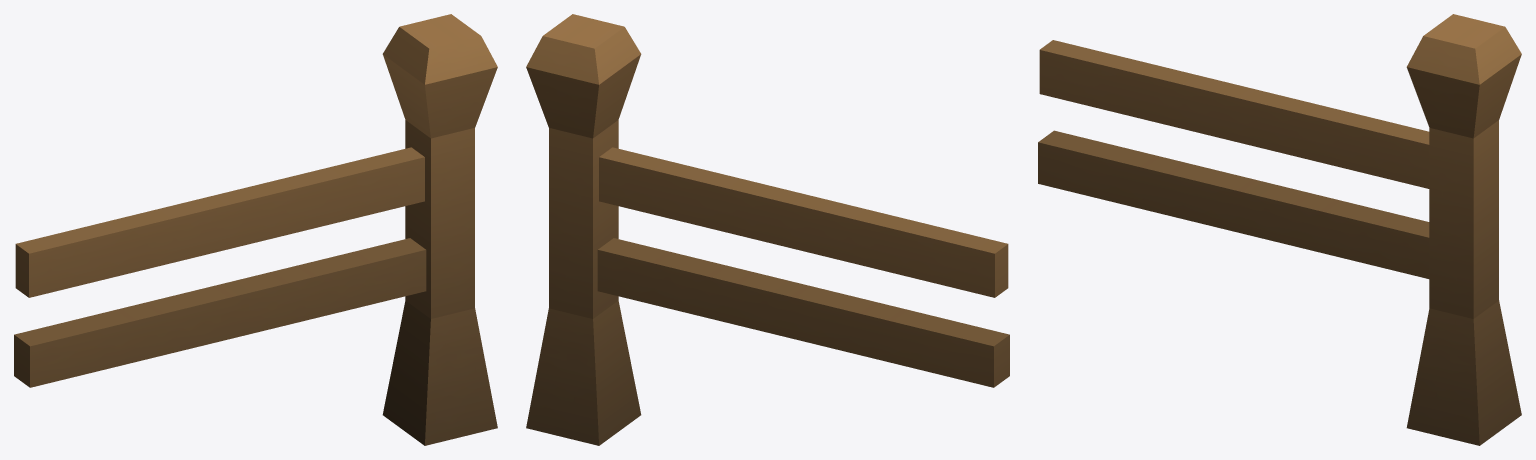
Rendered from Fence004.fbx.
3 views of the same model, side by side, from view 1: azimuth 30°, elevation 25°; view 2: azimuth 150°, elevation 25°; view 3: azimuth 330°, elevation 25° (orthographic).
Parts seen in each view (by area): view 1: Cube.029; view 2: Cube.029; view 3: Cube.029.
Part boxes in pixels (box(x1,y1,x2,y2)): Cube.029: box(14, 14, 497, 445); Cube.029: box(526, 14, 1009, 445); Cube.029: box(1038, 14, 1521, 445).
Size of the model in its own units: 196 by 160 by 31.43.
